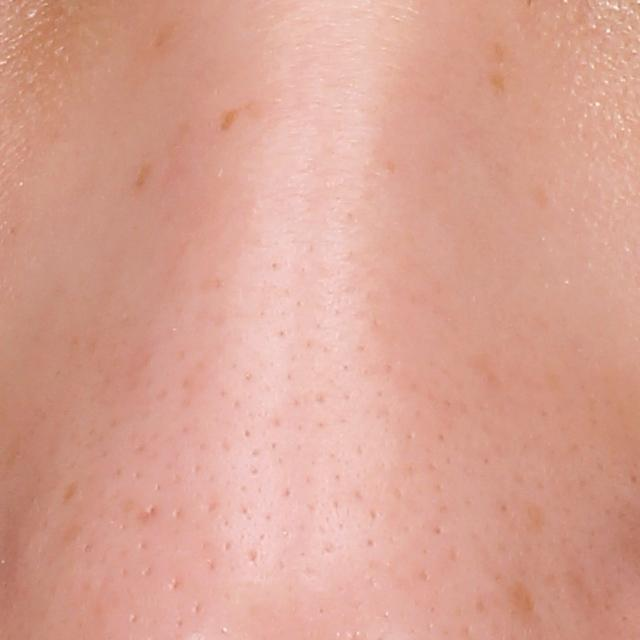melasma: (565, 546, 611, 624), (508, 575, 541, 625), (152, 21, 178, 51), (132, 159, 154, 192), (218, 107, 245, 133), (485, 69, 509, 97), (491, 40, 508, 63)
